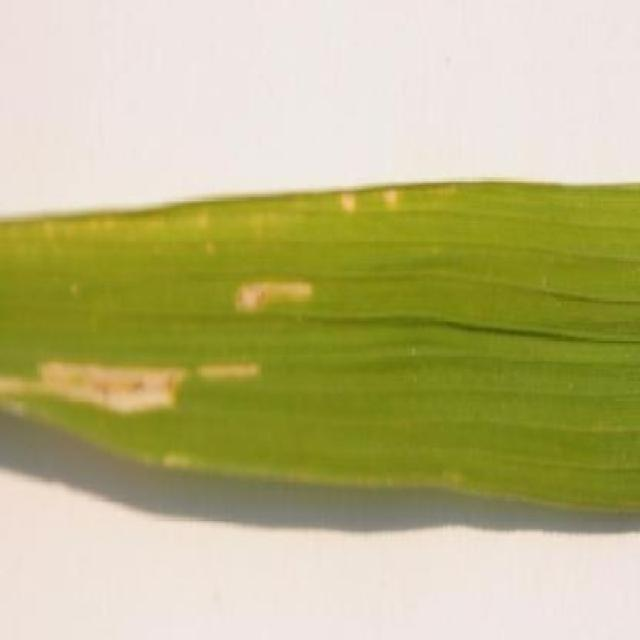Brown_Spot: (0, 158, 638, 588), (7, 167, 442, 365), (1, 318, 276, 484)
